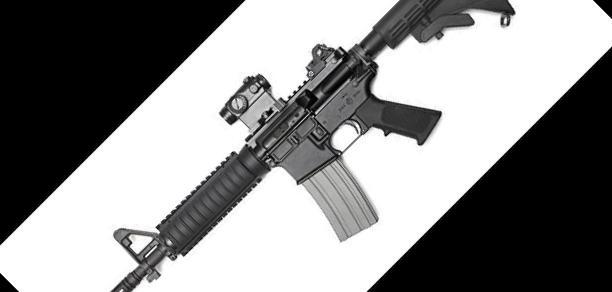larga: (110, 0, 516, 292)
